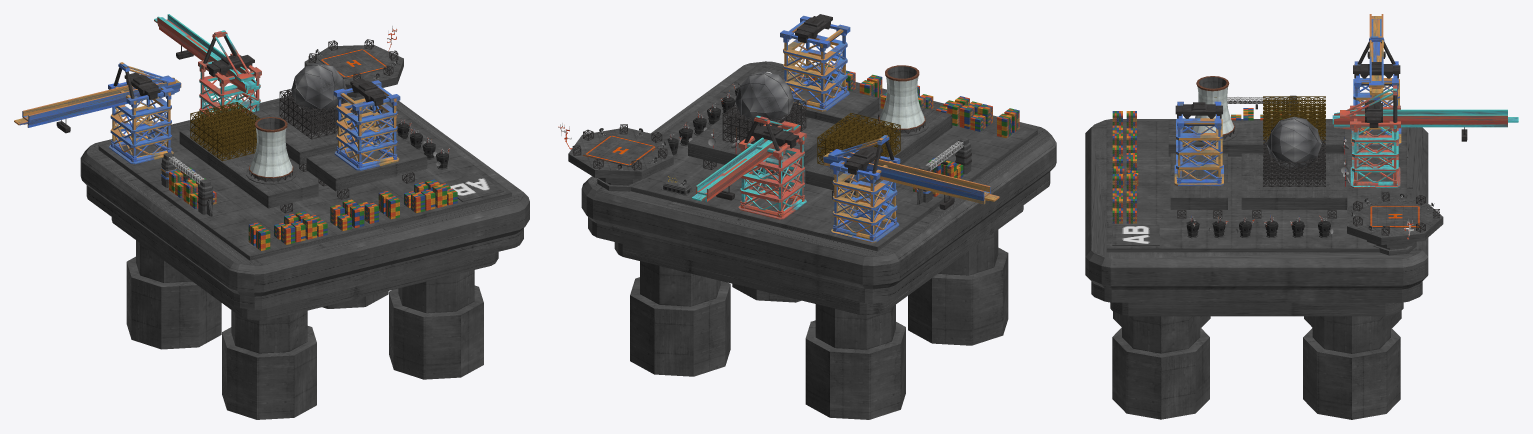
The model's file is oil-rig.fbx.
The picture shows the model from 3 angles, left to right: view 1: azimuth 30°, elevation 25°; view 2: azimuth 150°, elevation 25°; view 3: azimuth 270°, elevation 25°; orthographic projection. The views are drawn at different scales.
Parts seen in each view (by area): view 1: Cube.064; view 2: Cube.064; view 3: Cube.064.
Part boxes in pixels (<box>): Cube.064: <box>14,14,529,419</box>; Cube.064: <box>558,14,1056,419</box>; Cube.064: <box>1085,14,1518,419</box>.
Bounding box in the file's own units: 31548 × 20644 × 29968.
